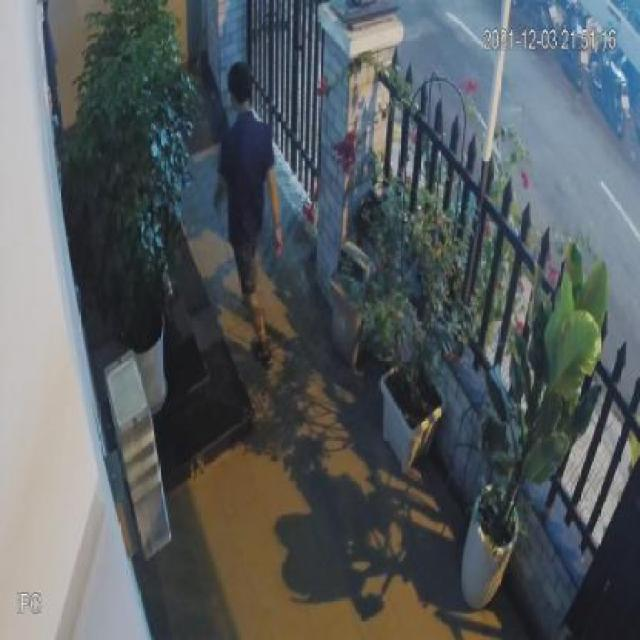Manusia: (212, 62, 283, 369)
